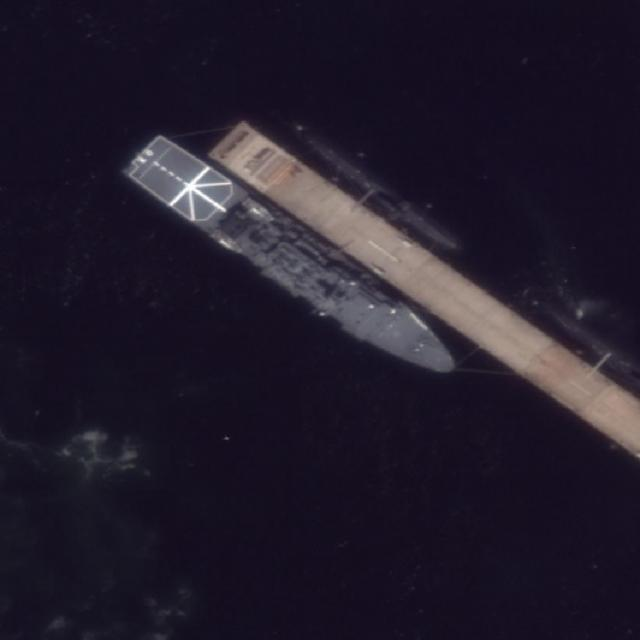Landing: (119, 120, 474, 405)
Submarine: (273, 114, 469, 259), (513, 286, 640, 385)
